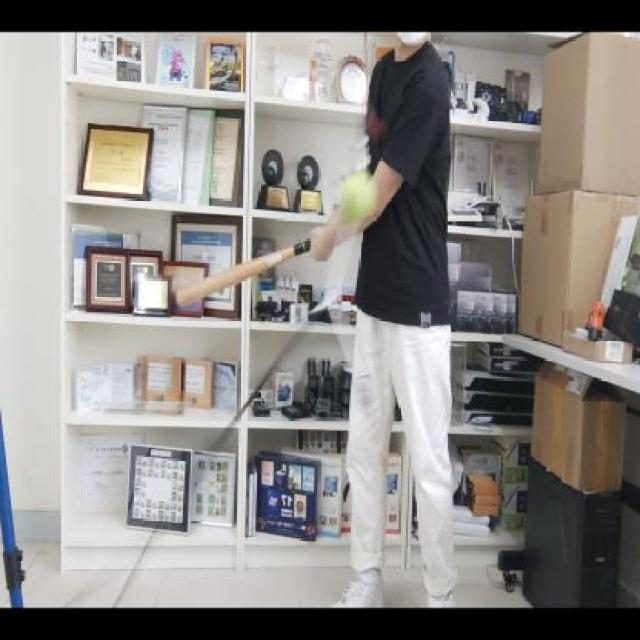baseball: (341, 174, 379, 220)
